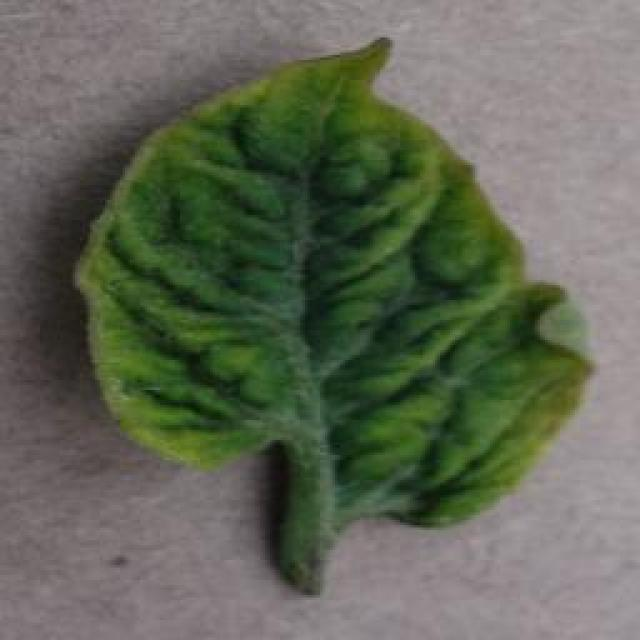Tomato yellow virus leaf: (73, 36, 600, 532)
